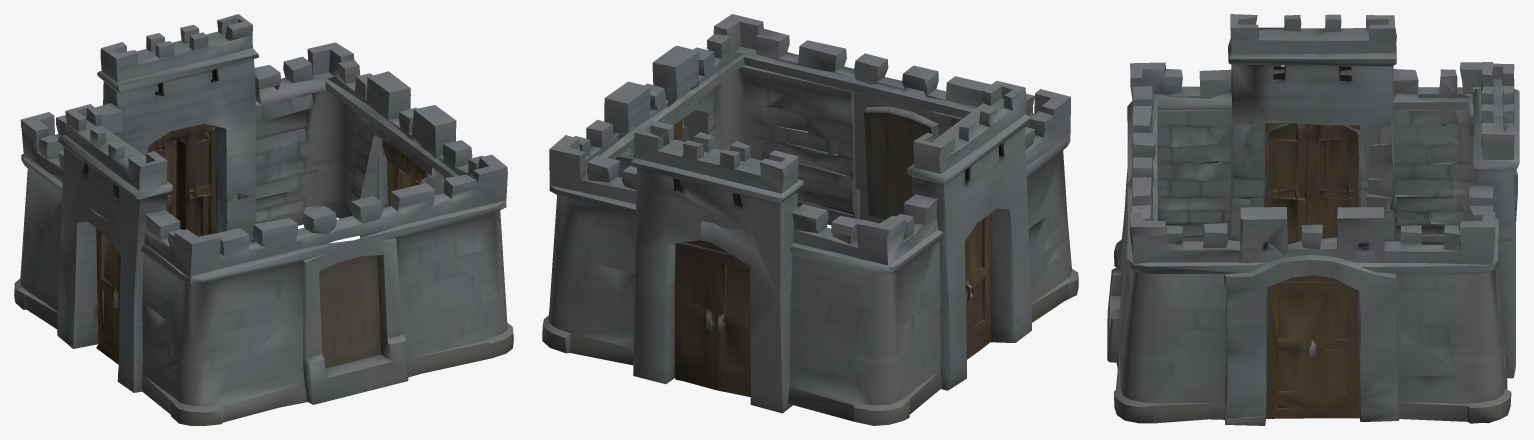
The picture shows the model from 3 angles, left to right: view 1: azimuth 30°, elevation 25°; view 2: azimuth 150°, elevation 25°; view 3: azimuth 270°, elevation 25°; orthographic projection. The views are drawn at different scales.
Visible parts, largest first — view 1: geometry_0; view 2: geometry_0; view 3: geometry_0.
Part boxes in pixels (bbox=[...]): geometry_0: bbox=[14, 14, 513, 425]; geometry_0: bbox=[542, 14, 1078, 425]; geometry_0: bbox=[1107, 14, 1519, 425].
Bounding box in the file's own units: 1 × 0.651 × 0.9948.
1 material, 1 textured.
